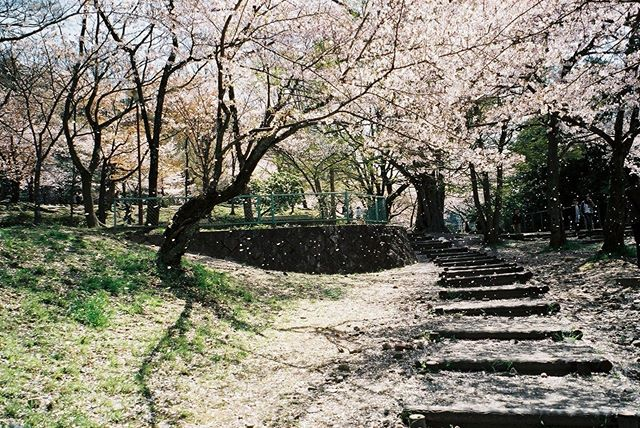vegetation: (1, 1, 640, 243)
